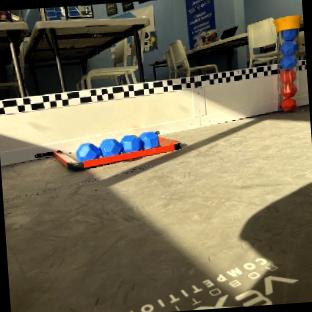V5_BLUE: (75, 131, 159, 164)
